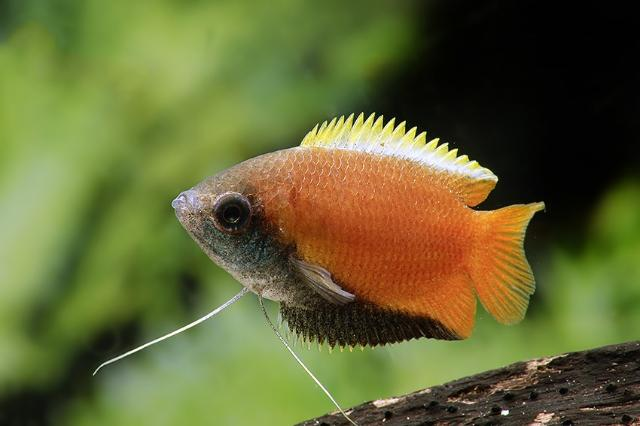Mulut: (156, 170, 210, 232)
Sirip Anal: (265, 282, 489, 358)
Sirip Dada: (279, 243, 367, 315)
Sirip Ekor: (472, 182, 554, 339)
Sirip Perut: (78, 279, 367, 426)
Sirip Punggung: (294, 104, 504, 212)
